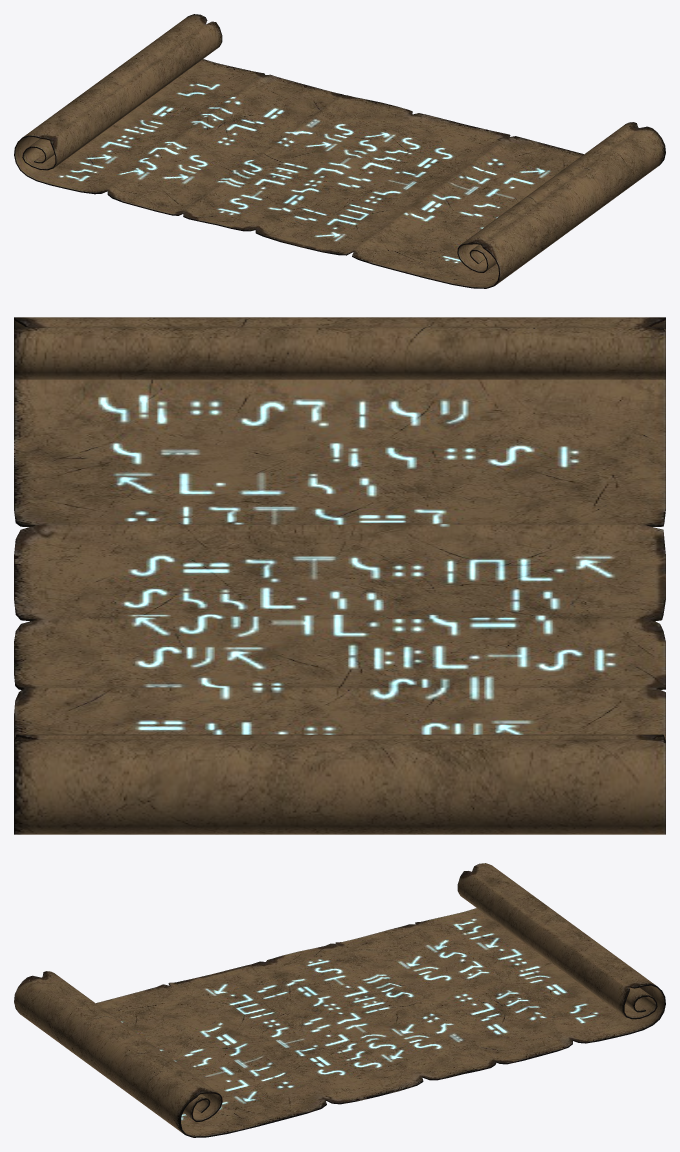
File: scroll.glb
3 views of the same model, one above another, from view 1: azimuth 30°, elevation 25°; view 2: azimuth 150°, elevation 25°; view 3: azimuth 270°, elevation 25° (orthographic). The views are drawn at different scales.
Parts seen in each view (by area): view 1: Scroll; view 2: Scroll; view 3: Scroll.
Boxes of the visible parts, x1,y1,x2,y2 form: Scroll: (14, 14, 665, 288); Scroll: (14, 317, 665, 834); Scroll: (14, 863, 665, 1137).
Size of the model in its own units: 7.69 by 0.704 by 8.83.
1 material, 1 textured.
